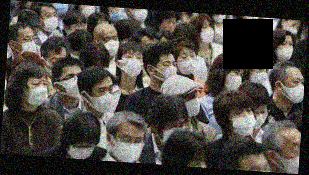with_mask: (112, 132, 146, 163), (231, 106, 259, 138), (25, 79, 50, 107), (163, 120, 188, 146), (283, 76, 305, 105), (95, 83, 114, 115), (122, 51, 144, 78), (68, 140, 97, 160), (63, 70, 83, 98), (183, 89, 202, 118), (178, 50, 198, 76), (285, 140, 300, 174), (18, 31, 39, 55), (250, 62, 271, 85), (275, 39, 295, 63), (101, 33, 120, 57), (160, 58, 179, 82), (251, 106, 269, 131), (42, 10, 60, 34), (226, 69, 244, 92), (47, 56, 65, 78), (199, 23, 216, 45), (284, 21, 300, 36)
without_mask: (163, 18, 178, 34)
